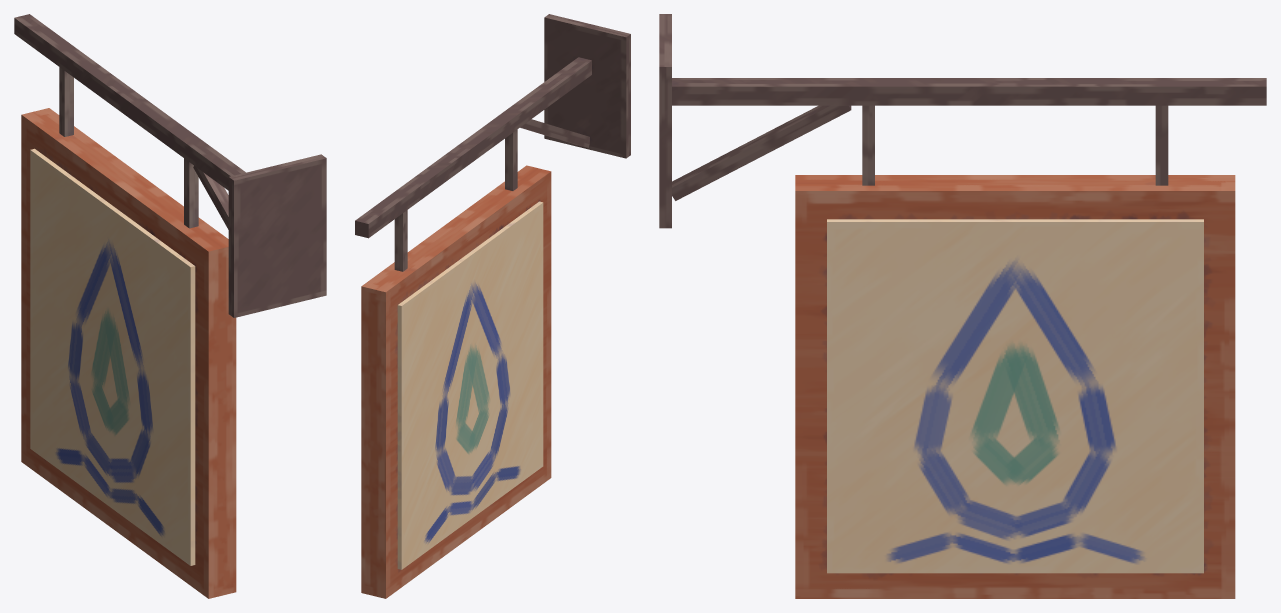
Rendered from sign_drop.bundle.fbx.
3 renders of one model, left to right at view 1: azimuth 30°, elevation 25°; view 2: azimuth 150°, elevation 25°; view 3: azimuth 270°, elevation 25°, orthographic. The views are drawn at different scales.
Parts seen in each view (by area): view 1: sign_drop, sign_drop_low; view 2: sign_drop, sign_drop_low; view 3: sign_drop, sign_drop_low.
Part boxes in pixels (x1=…): sign_drop: x1=14, y1=14, x2=326, y2=592; sign_drop_low: x1=21, y1=108, x2=236, y2=598; sign_drop: x1=355, y1=14, x2=630, y2=593; sign_drop_low: x1=361, y1=165, x2=551, y2=598; sign_drop: x1=659, y1=14, x2=1266, y2=593; sign_drop_low: x1=795, y1=175, x2=1235, y2=598.
Size of the model in its own units: 0.6 by 2.9 by 2.9.
Materials: 1 (1 with a texture image).
